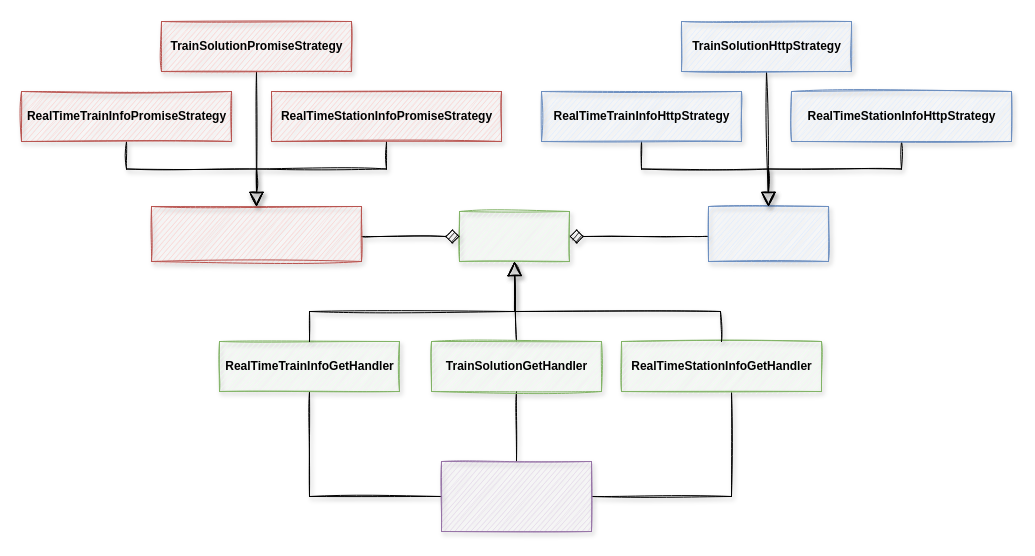
The diagram is 1035 pixels wide and 556 high, and some of its shapes have lost their labels. The centre of each missing label's shape, as x and y in pixels:
"CompletedPromiseValueStrategy" goes at (x=257, y=235).
"GetHandler" goes at (x=515, y=237).
"HttpRequestStrategy" goes at (x=769, y=235).
"TrainsAPIGet" goes at (x=517, y=497).
